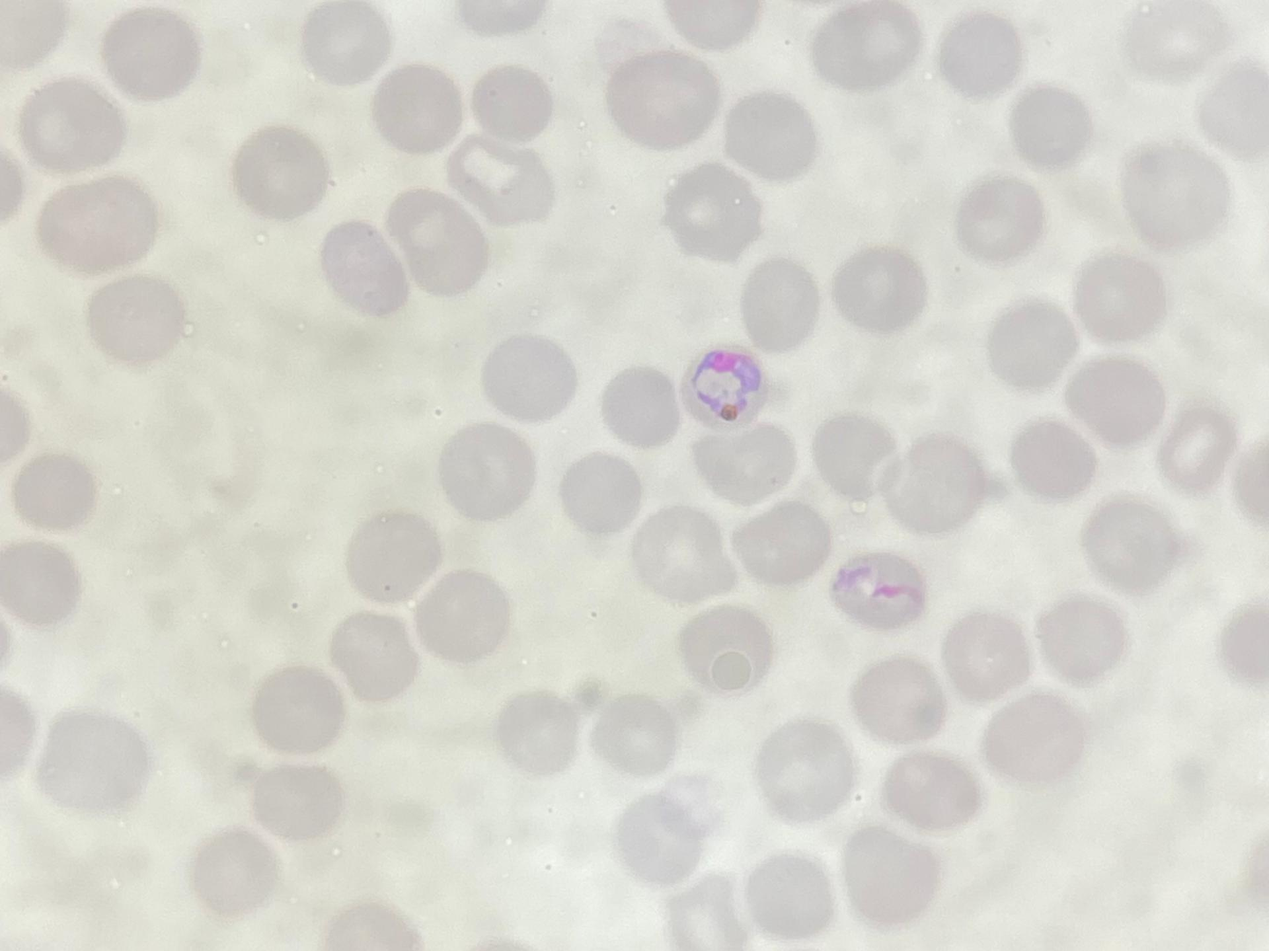Infected: (681, 337, 764, 427)
Uninfected: (33, 706, 149, 814), (36, 175, 159, 276), (385, 189, 494, 298), (602, 50, 718, 147), (1119, 143, 1225, 247), (882, 433, 991, 531), (754, 717, 855, 818), (660, 162, 764, 260), (840, 825, 939, 925), (19, 77, 124, 171), (344, 508, 445, 605), (436, 422, 538, 518), (981, 691, 1085, 785), (453, 137, 558, 229), (1063, 353, 1167, 445), (411, 567, 511, 662), (629, 506, 729, 601), (228, 124, 330, 217), (612, 788, 710, 884), (1080, 496, 1180, 590), (810, 4, 918, 91), (85, 272, 188, 363), (729, 498, 831, 589), (674, 603, 773, 695), (100, 9, 202, 98), (691, 422, 798, 504), (1073, 253, 1169, 342), (480, 332, 577, 420), (1035, 593, 1130, 682), (250, 665, 346, 753), (742, 848, 837, 936), (722, 91, 818, 178), (849, 655, 946, 741), (327, 611, 420, 700), (319, 221, 408, 314), (941, 612, 1033, 701), (377, 61, 464, 155), (831, 245, 925, 332), (1123, 0, 1226, 79), (882, 746, 980, 829), (297, 0, 390, 86), (190, 827, 280, 914), (987, 300, 1078, 386), (955, 177, 1048, 261), (246, 761, 341, 843), (590, 693, 680, 779), (829, 551, 925, 631), (1, 537, 85, 628), (812, 412, 899, 499), (1009, 416, 1098, 500), (935, 10, 1022, 95), (494, 690, 581, 774), (558, 452, 646, 535), (740, 258, 822, 346), (468, 63, 557, 144), (10, 449, 97, 531), (1195, 61, 1269, 157), (1153, 404, 1235, 488), (1009, 85, 1093, 166), (599, 366, 683, 445), (664, 873, 750, 946)
